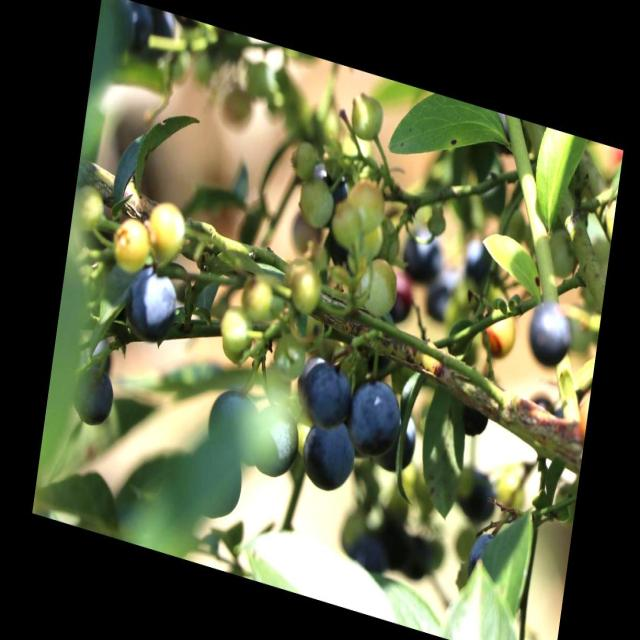blueberry: (293, 408, 359, 497), (122, 258, 180, 352), (291, 348, 354, 434), (345, 372, 402, 463), (184, 443, 248, 522), (205, 380, 261, 463), (249, 398, 299, 478), (524, 296, 574, 371), (70, 365, 116, 429), (399, 219, 444, 282), (456, 401, 488, 441)
blueberry-unripe: (344, 166, 390, 234), (107, 212, 153, 278), (144, 195, 189, 261), (210, 300, 254, 367), (358, 253, 402, 319), (280, 250, 324, 315), (295, 169, 336, 233), (345, 90, 385, 147), (480, 302, 517, 358), (327, 197, 364, 249), (239, 269, 274, 322)
